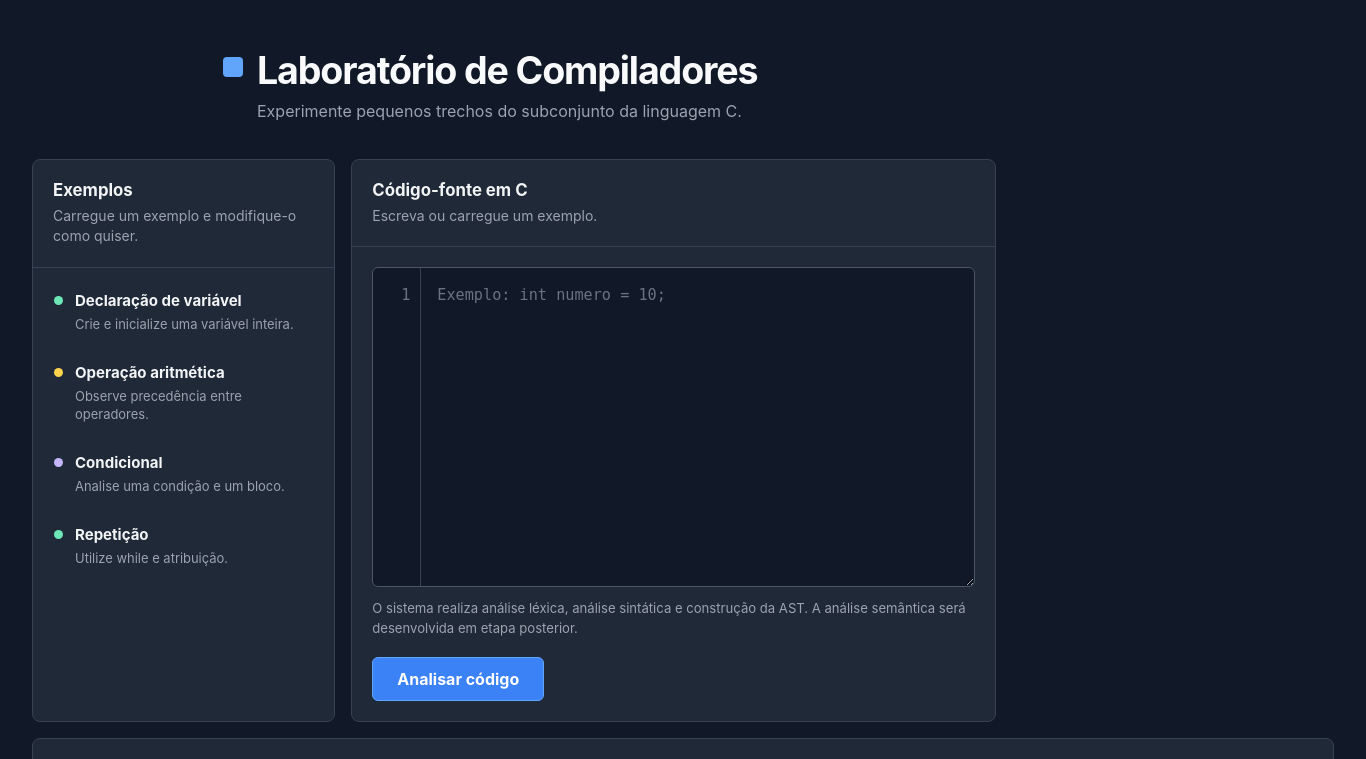
Test: App › envia o código e exibe tokens e AST
The width and height of the screenshot is (1366, 759).
Type "int numero = 10;" into the text box named "Editor de código-fonte em C" at (698, 427), box [421, 268, 974, 586]
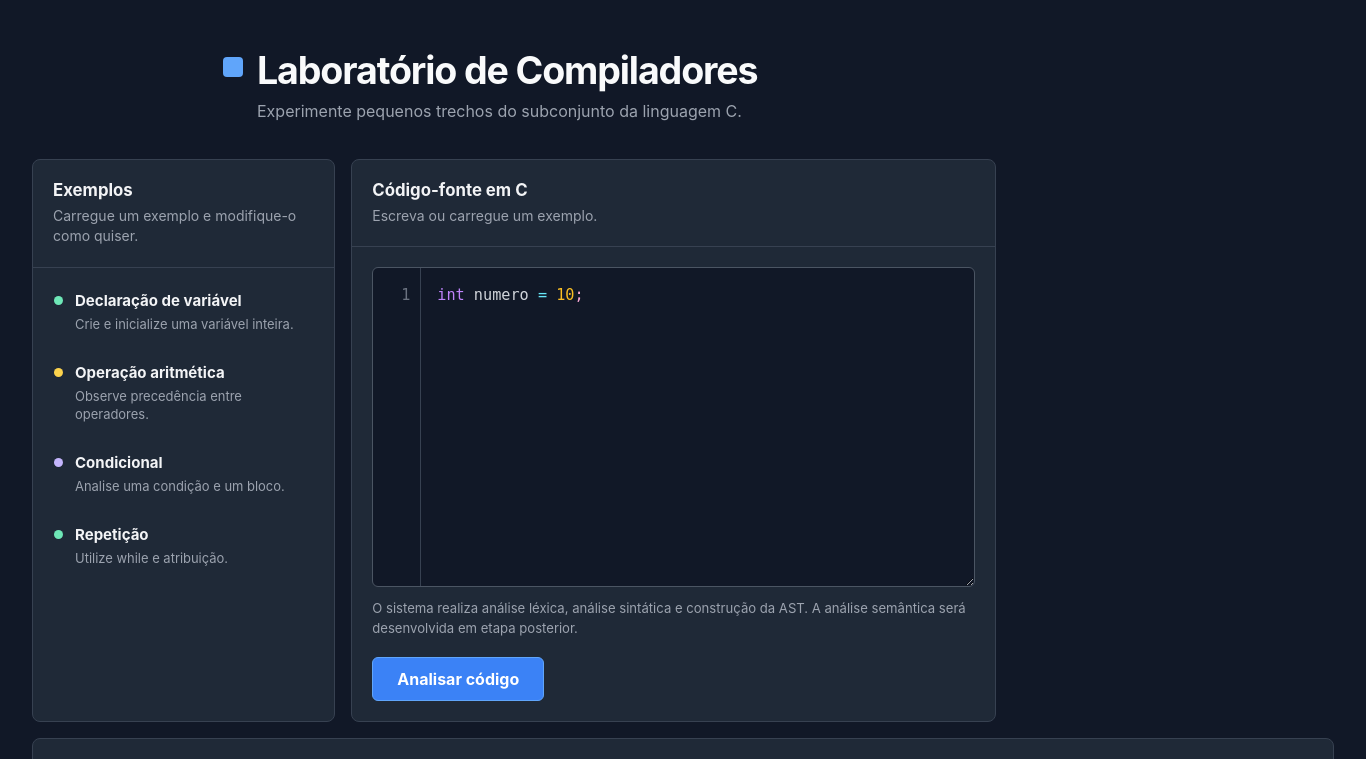
Click the button "Analisar código" at (458, 679), box [372, 657, 544, 701]
(page scrolled)
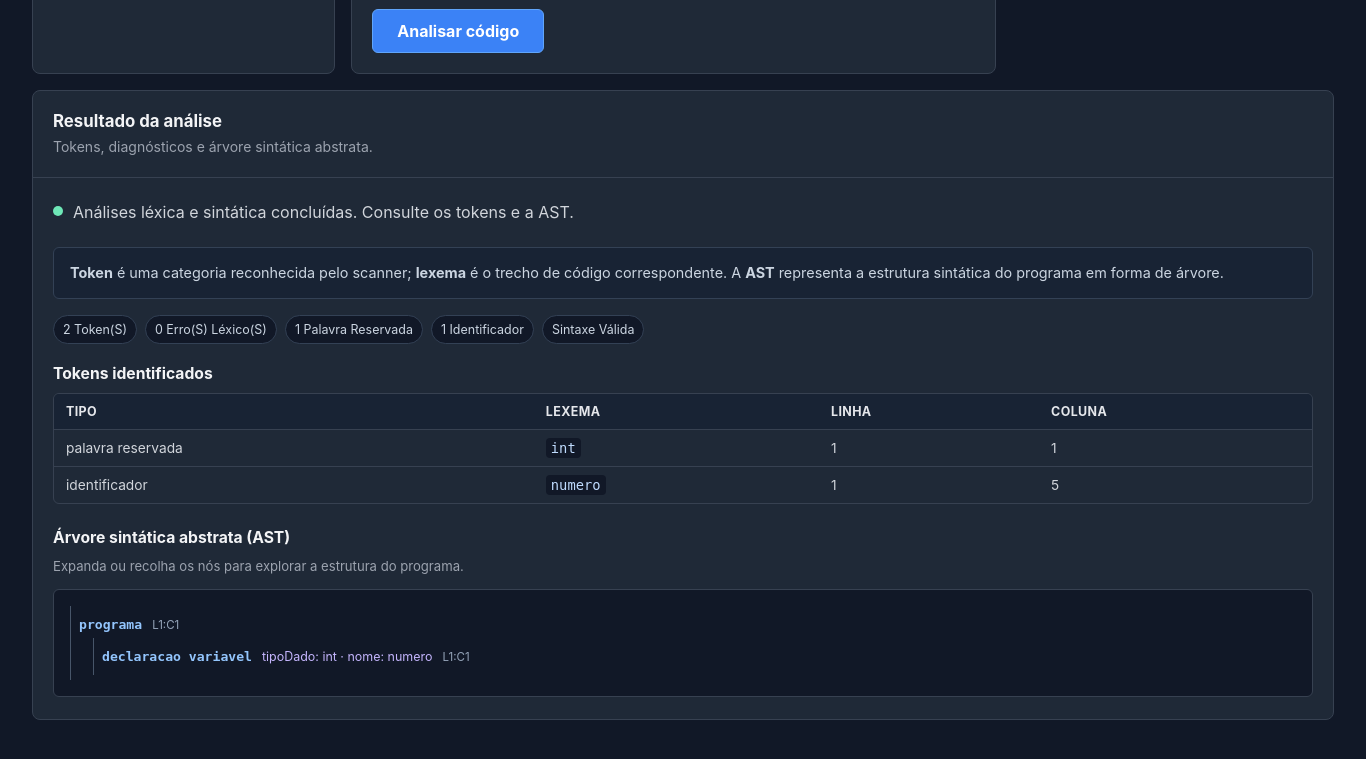
expect the heading "Tokens identificados" is shown: met, box [53, 364, 213, 383]
expect the text "palavra reservada" is shown: met, box [54, 430, 534, 467]
expect the text "identificador" is shown: met, box [54, 467, 534, 503]
